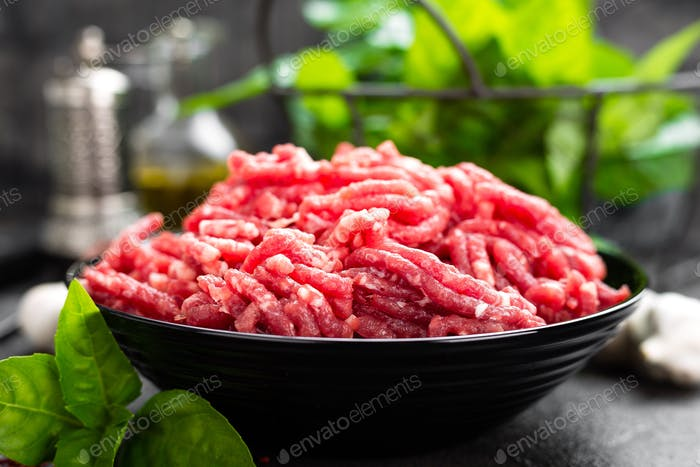ground_beef: (107, 143, 598, 331)
